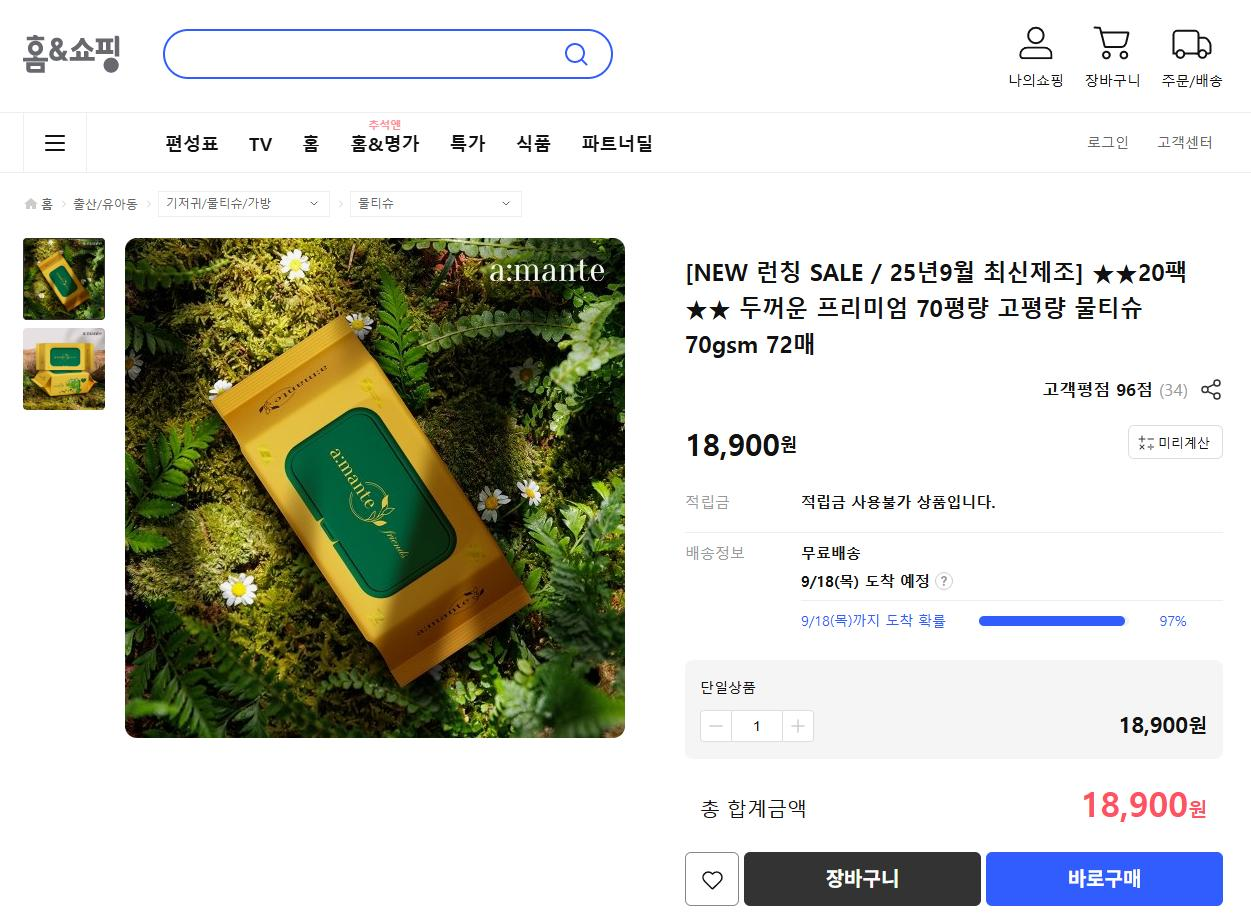button: (750, 850, 980, 908), (987, 853, 1221, 905), (1160, 20, 1243, 104), (1006, 17, 1073, 99), (576, 112, 663, 173), (1084, 14, 1146, 98), (1129, 416, 1226, 467), (347, 113, 432, 170), (697, 706, 820, 740), (27, 109, 85, 176), (504, 116, 566, 168), (1156, 120, 1226, 164), (150, 123, 223, 164), (683, 853, 738, 907), (441, 116, 497, 163), (1080, 120, 1135, 161), (1196, 366, 1239, 416), (296, 124, 337, 165), (241, 122, 285, 159)
checkbox: (154, 183, 329, 224), (349, 183, 528, 222)
input_field: (159, 23, 617, 85)
